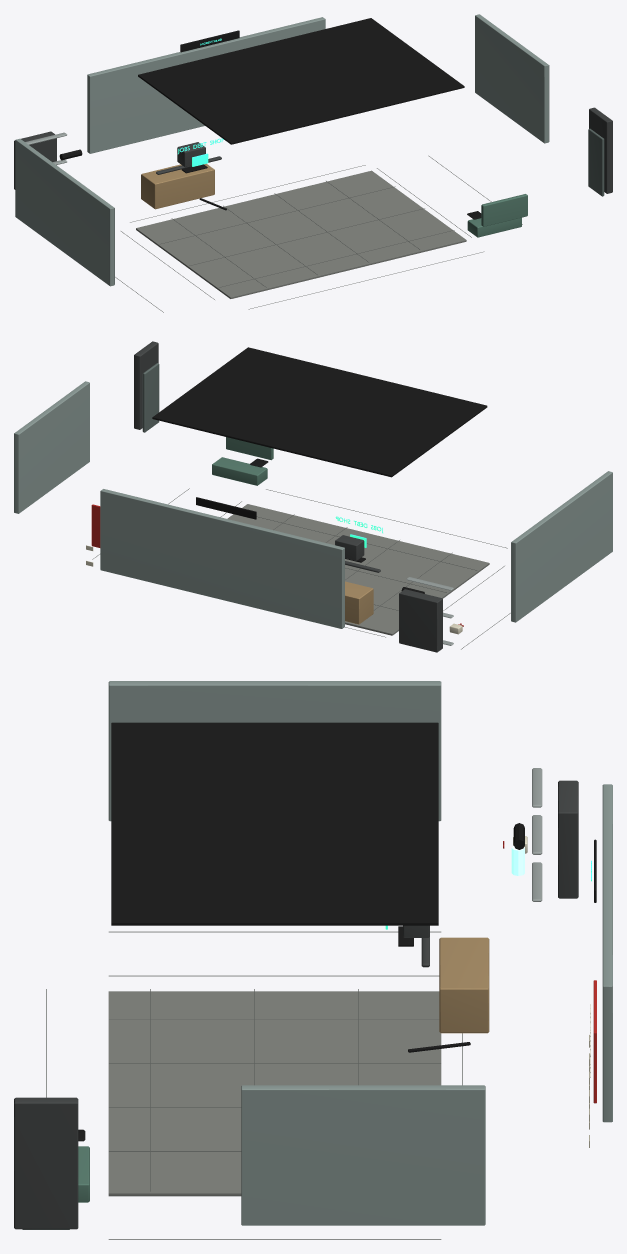
File: ASV2_HQ_Rundown_Commission_Office.fbx
3 views of the same model, one above another, from view 1: azimuth 30°, elevation 25°; view 2: azimuth 150°, elevation 25°; view 3: azimuth 270°, elevation 25° (orthographic). The views are drawn at different scales.
Parts seen in each view (by area): view 1: hq_floor_base, hq_ceiling_panels, hq_back_wall, hq_left_wall, hq_right_half_wall, hq_main_desk, hq_sofa_back, hq_entry_door_frame, hq_entry_door_panel, hq_equipment_shelf, hq_sofa_base, hq_logo_sign_plate (+1 smaller); view 2: hq_ceiling_panels, hq_back_wall, hq_floor_base, hq_left_wall, hq_right_half_wall, hq_equipment_shelf, hq_entry_door_frame, hq_main_desk, hq_entry_door_panel, hq_sofa_base, hq_sofa_back, hq_logo_sign_plate (+1 smaller); view 3: hq_ceiling_panels, hq_floor_base, hq_right_half_wall, hq_left_wall, hq_entry_door_frame, hq_main_desk, hq_back_wall, hq_equipment_shelf.
Part boxes in pixels (x1,y1,x2,y2): hq_floor_base: [136, 170, 466, 298]; hq_ceiling_panels: [138, 18, 464, 144]; hq_back_wall: [87, 17, 325, 153]; hq_left_wall: [15, 138, 114, 286]; hq_right_half_wall: [475, 14, 549, 143]; hq_main_desk: [141, 163, 214, 209]; hq_sofa_back: [481, 194, 527, 226]; hq_entry_door_frame: [589, 107, 612, 193]; hq_entry_door_panel: [588, 128, 604, 196]; hq_equipment_shelf: [14, 131, 56, 189]; hq_sofa_base: [467, 217, 521, 237]; hq_logo_sign_plate: [180, 30, 239, 52]; hq_ceiling_panels: [152, 347, 487, 477]; hq_back_wall: [100, 489, 344, 628]; hq_floor_base: [227, 504, 489, 635]; hq_left_wall: [511, 471, 612, 622]; hq_right_half_wall: [14, 381, 89, 513]; hq_equipment_shelf: [399, 589, 442, 652]; hq_entry_door_frame: [134, 341, 158, 429]; hq_main_desk: [345, 581, 373, 624]; hq_entry_door_panel: [142, 363, 159, 432]; hq_sofa_base: [212, 457, 267, 485]; hq_sofa_back: [226, 437, 273, 460]; hq_logo_sign_plate: [196, 497, 256, 519]; hq_ceiling_panels: [111, 722, 438, 925]; hq_floor_base: [108, 991, 441, 1196]; hq_right_half_wall: [241, 1085, 485, 1225]; hq_left_wall: [108, 681, 441, 821]; hq_entry_door_frame: [14, 1097, 78, 1229]; hq_main_desk: [439, 937, 489, 1033]; hq_back_wall: [602, 784, 612, 1122]; hq_equipment_shelf: [558, 780, 578, 898].
Bounding box in the file's own units: 930 × 290 × 576.
